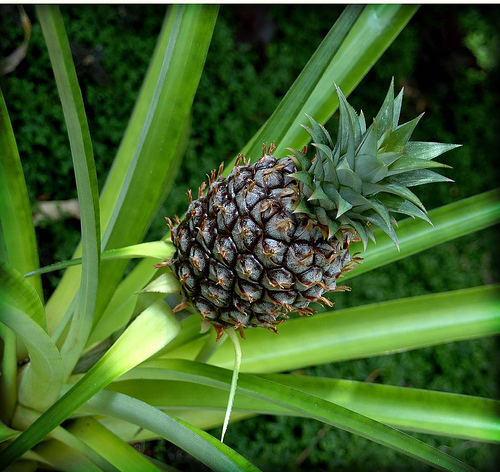pineapple: (157, 75, 463, 343)
